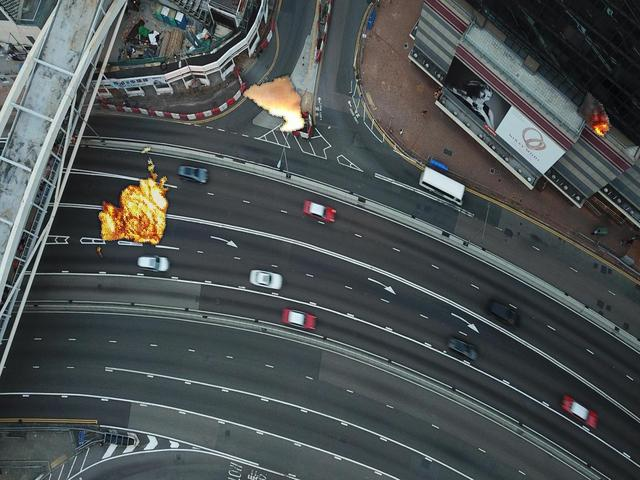fire: (95, 145, 171, 260), (242, 74, 307, 133), (577, 91, 612, 138)
